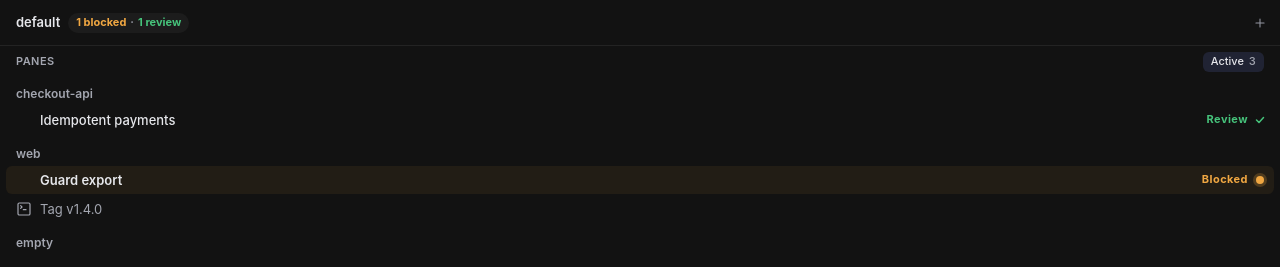
it: AgentList › folds a workspace from its header, keeping what needs the user counted on it
This screenshot has width=1280, height=267.
Click the button "web": (28, 154) [16,146,40,162]
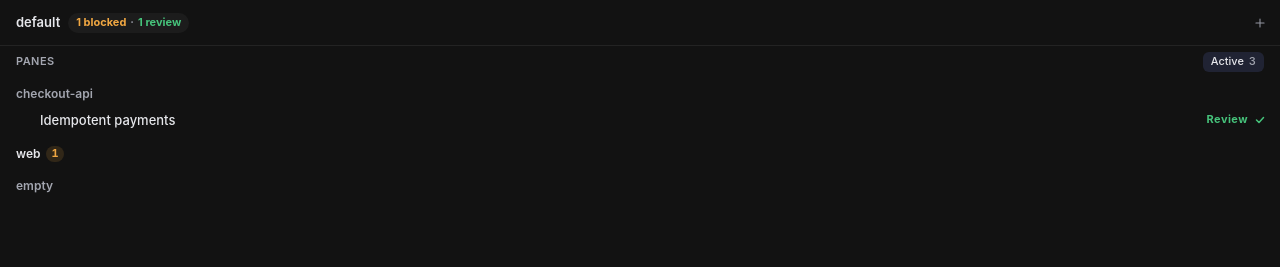
Expected: the button with aria-label "web, 1 needs you" is collapsed, [16,146,40,162]
Expected: the button "Guard export" is gone
